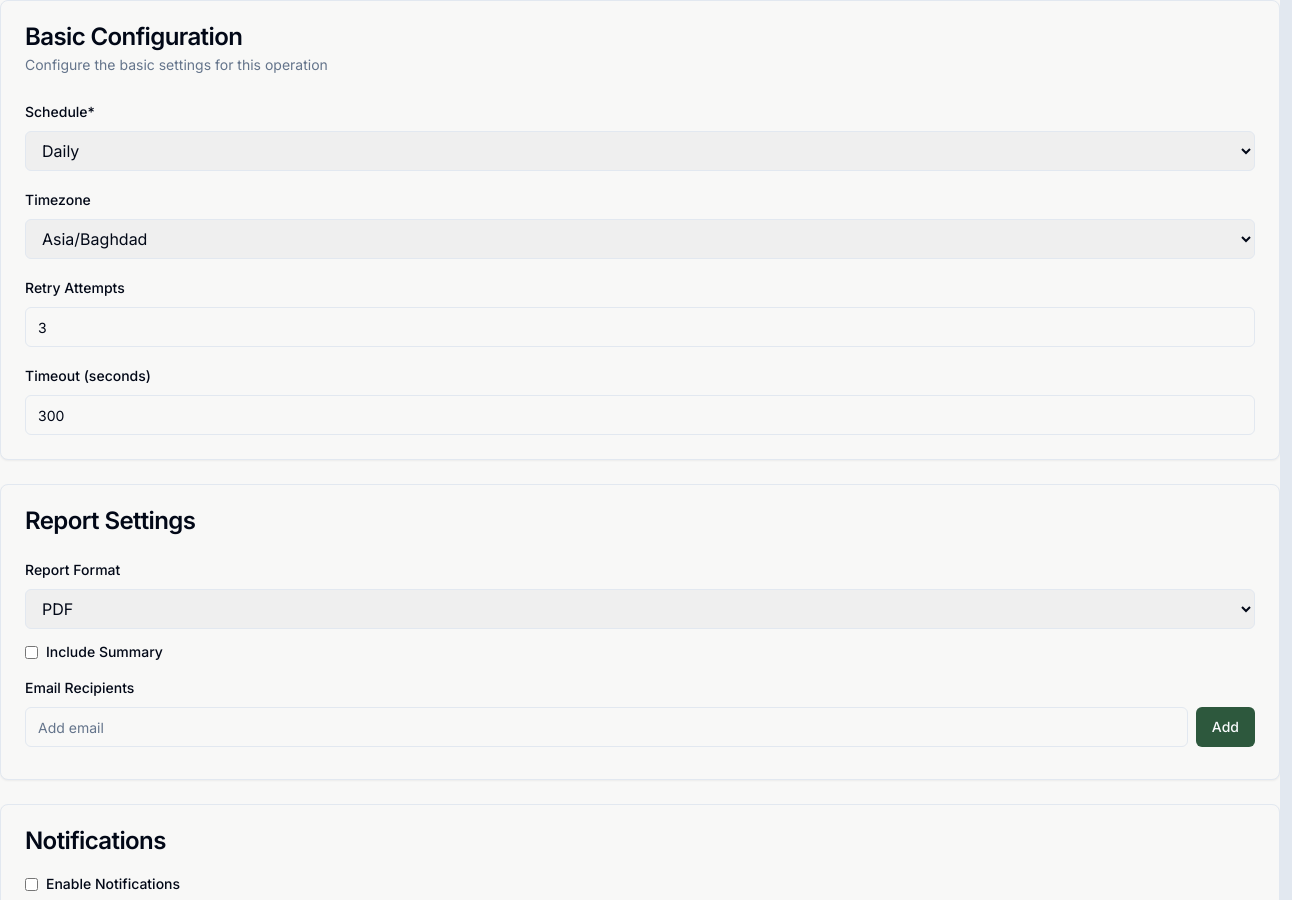
OperationConfiguration › Dynamic Field Rendering › shows conditional fields based on other values
Note: Enable notifications
Click the checkbox labelled "Enable Notifications": (32, 884) top-left (25, 878), bottom-right (38, 890)
(page scrolled)
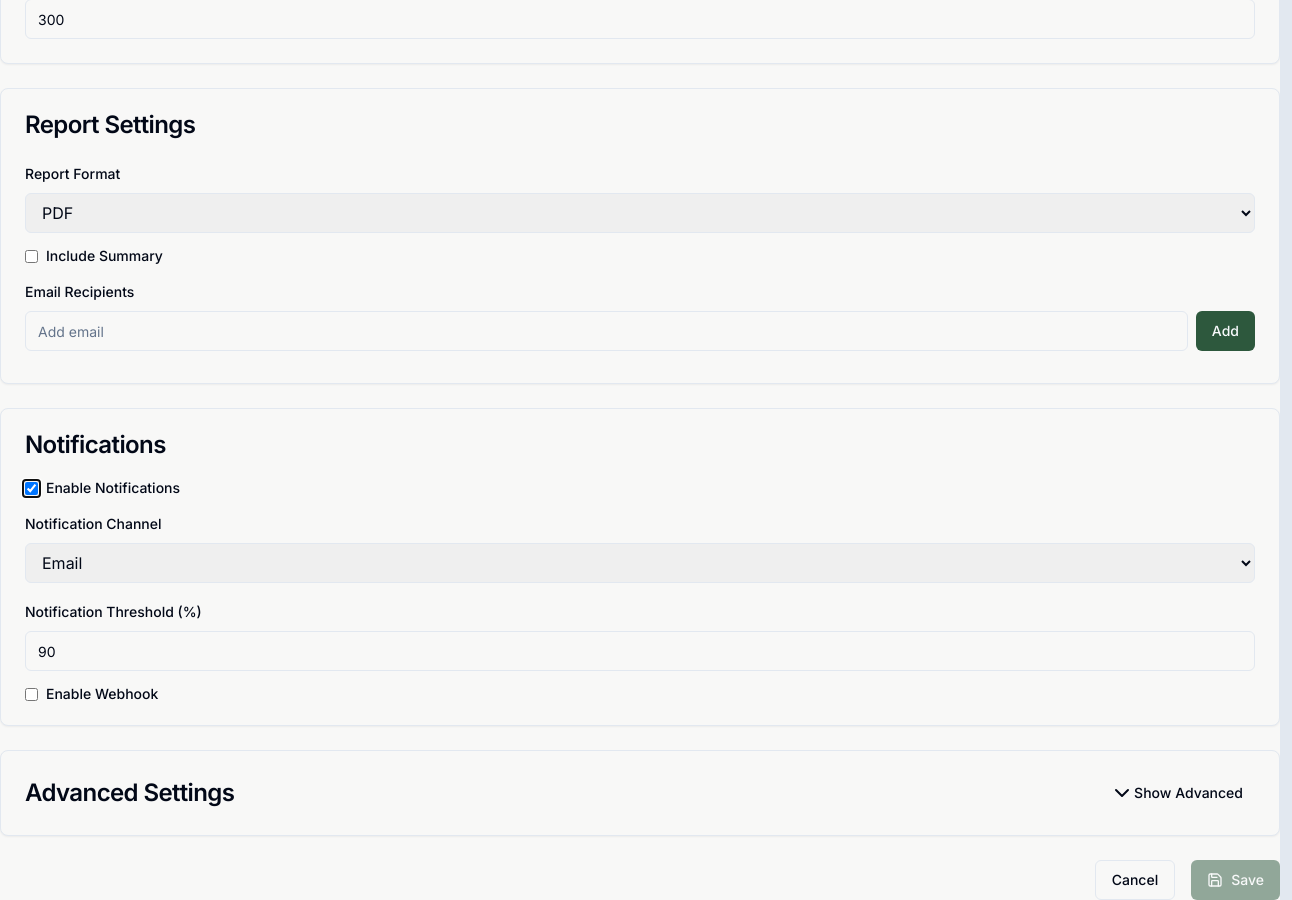
Check: the dropdown labelled "Notification Channel" is shown, box top-left (25, 543), bottom-right (1255, 583)
Check: the number field labelled "Notification Threshold (%)" is shown, box top-left (25, 631), bottom-right (1255, 671)
